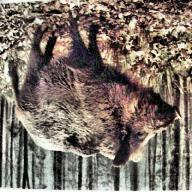boar: (3, 7, 176, 182)
